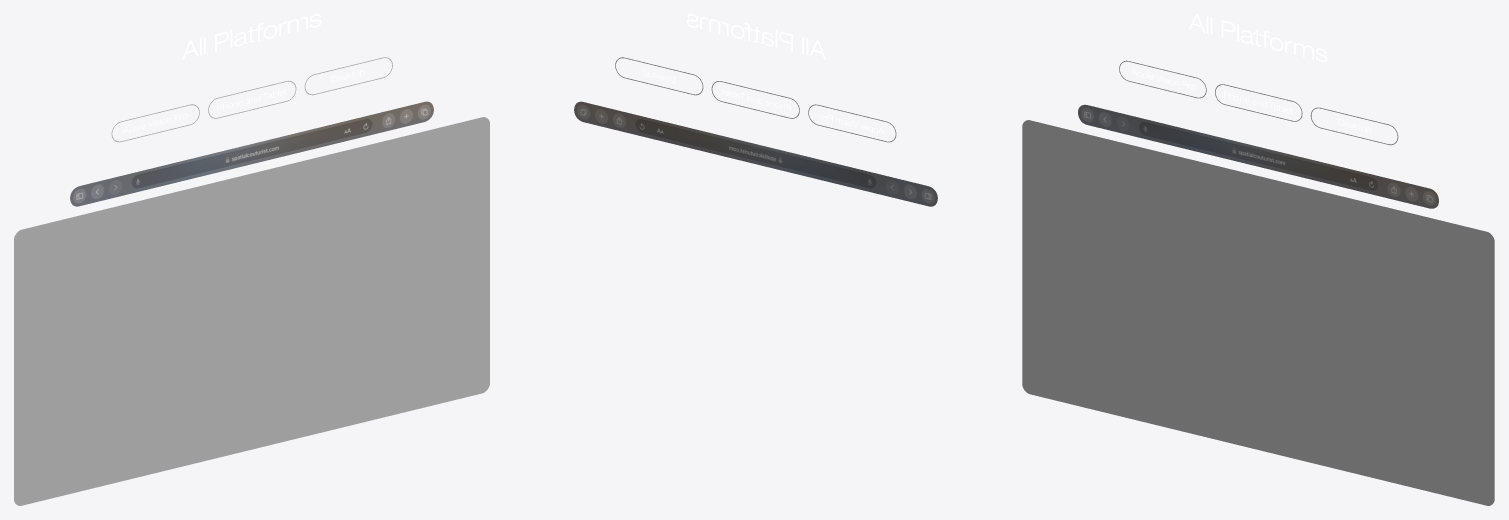
The model's file is hit.glb.
3 renders of one model, left to right at view 1: azimuth 30°, elevation 25°; view 2: azimuth 150°, elevation 25°; view 3: azimuth 330°, elevation 25°, orthographic.
Visible parts, largest first — view 1: Rectangle, Curve, Text; view 2: Curve, Text; view 3: Rectangle, Curve, Text.
Boxes of the visible parts, x1=… form: Rectangle: x1=14, y1=117, x2=489, y2=505; Curve: x1=70, y1=101, x2=433, y2=206; Text: x1=182, y1=14, x2=321, y2=59; Curve: x1=574, y1=101, x2=937, y2=206; Text: x1=686, y1=14, x2=825, y2=59; Rectangle: x1=1022, y1=120, x2=1494, y2=505; Curve: x1=1078, y1=104, x2=1438, y2=208; Text: x1=1189, y1=14, x2=1327, y2=62.
Bounding box in the file's own units: 4.46 × 3.8 × 0.0081.
3 materials, 1 textured.
